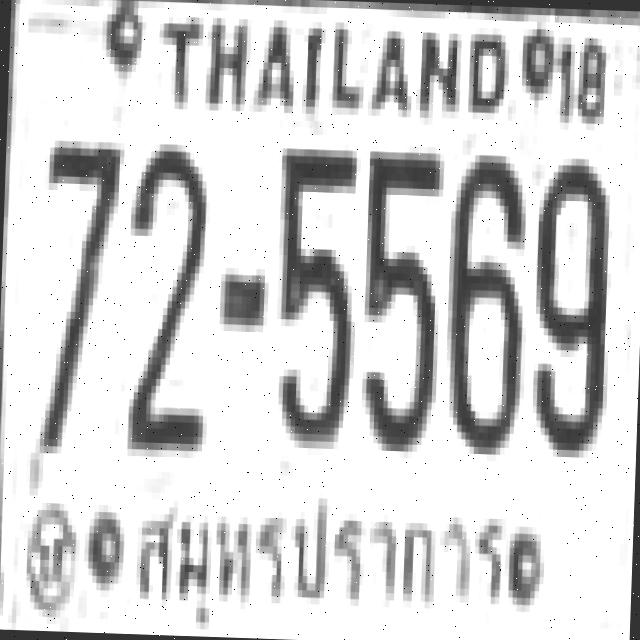2: (123, 139, 208, 447)
5: (355, 143, 440, 444), (270, 140, 354, 442)
6: (443, 146, 523, 448)
7: (35, 132, 120, 448)
9: (526, 150, 611, 450)
SamutPrakan: (128, 480, 510, 628)
